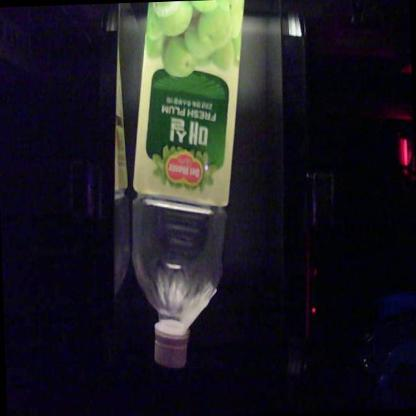Plastic Bottle: (132, 0, 244, 368)
